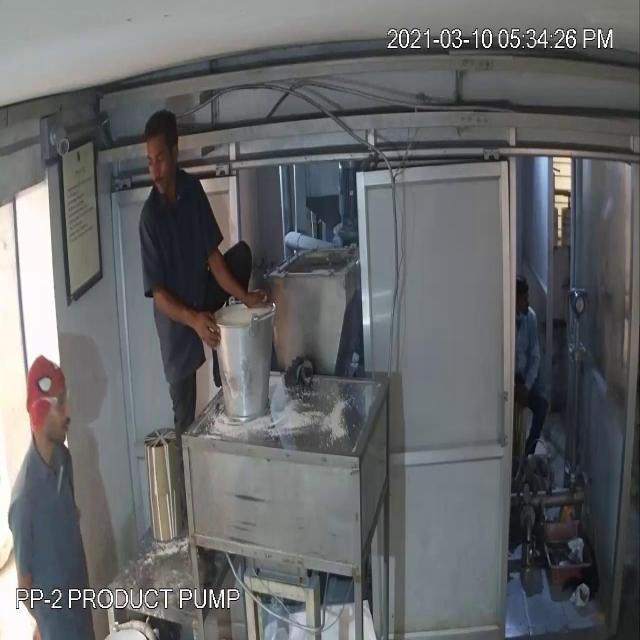No_Gloves: (67, 85, 232, 308)
